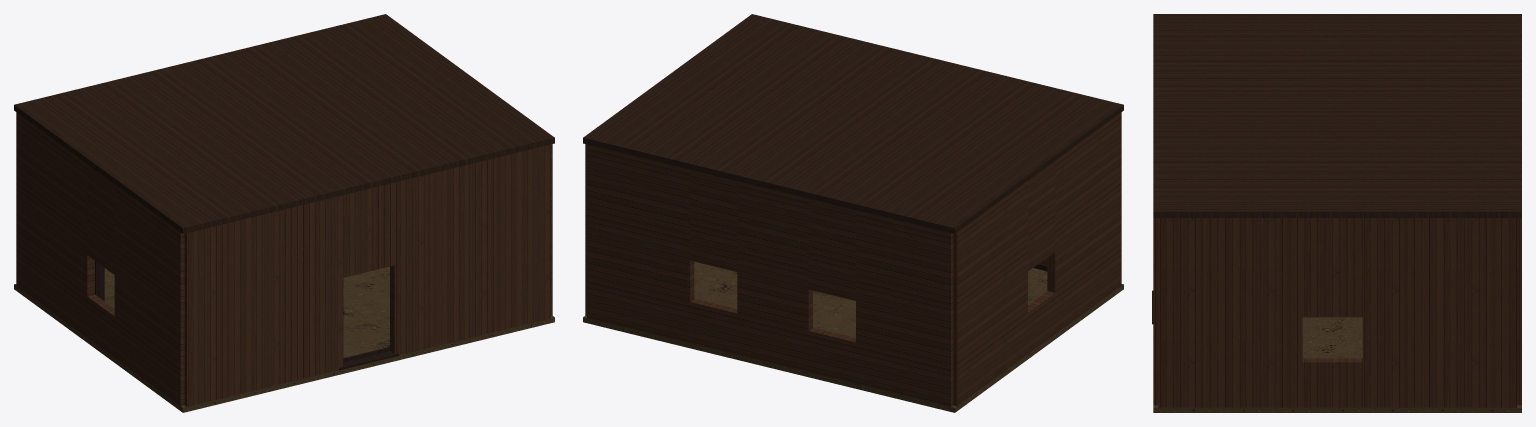
Rendered from int_barn_01.glb.
The picture shows the model from 3 angles, left to right: view 1: azimuth 30°, elevation 25°; view 2: azimuth 150°, elevation 25°; view 3: azimuth 270°, elevation 25°; orthographic projection. The views are drawn at different scales.
Parts seen in each view (by area): view 1: int_barn_01; view 2: int_barn_01; view 3: int_barn_01.
Boxes of the visible parts, bbox=[...] form: int_barn_01: bbox=[14, 14, 554, 412]; int_barn_01: bbox=[583, 14, 1123, 412]; int_barn_01: bbox=[1152, 14, 1521, 412].
Size of the model in its own units: 9.4 by 4.46 by 7.43.
6 materials, 5 textured.
